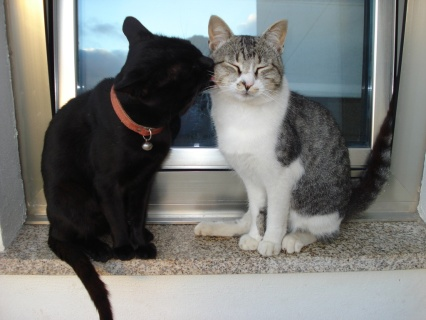Cat: (38, 15, 214, 319), (192, 15, 397, 257)
